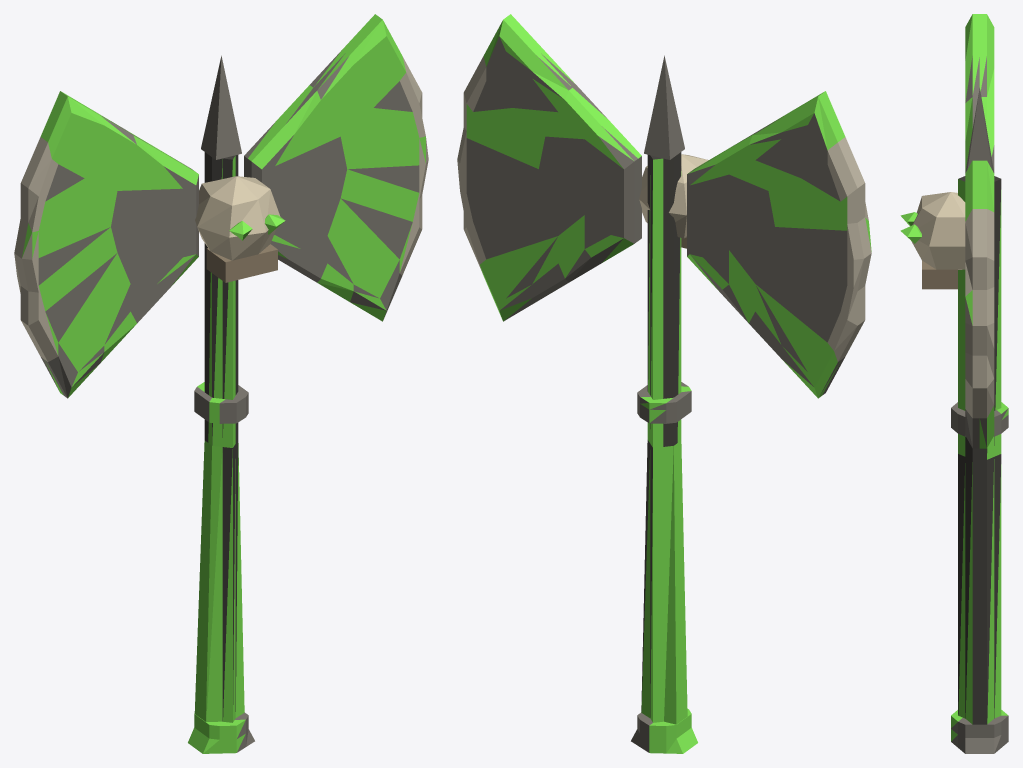
File: B03_1_necrotic_battleaxe.obj
3 views of the same model, side by side, from view 1: azimuth 30°, elevation 25°; view 2: azimuth 150°, elevation 25°; view 3: azimuth 270°, elevation 25° (orthographic). The views are drawn at different scales.
Visible parts, largest first — view 1: B03_1_necrotic_battleaxe; view 2: B03_1_necrotic_battleaxe; view 3: B03_1_necrotic_battleaxe.
Boxes of the visible parts, left/top/right/bottom form: B03_1_necrotic_battleaxe: left=14, top=14, right=428, bottom=753; B03_1_necrotic_battleaxe: left=457, top=14, right=871, bottom=753; B03_1_necrotic_battleaxe: left=900, top=14, right=1008, bottom=753.
Bounding box in the file's own units: 62 × 100 × 15.
